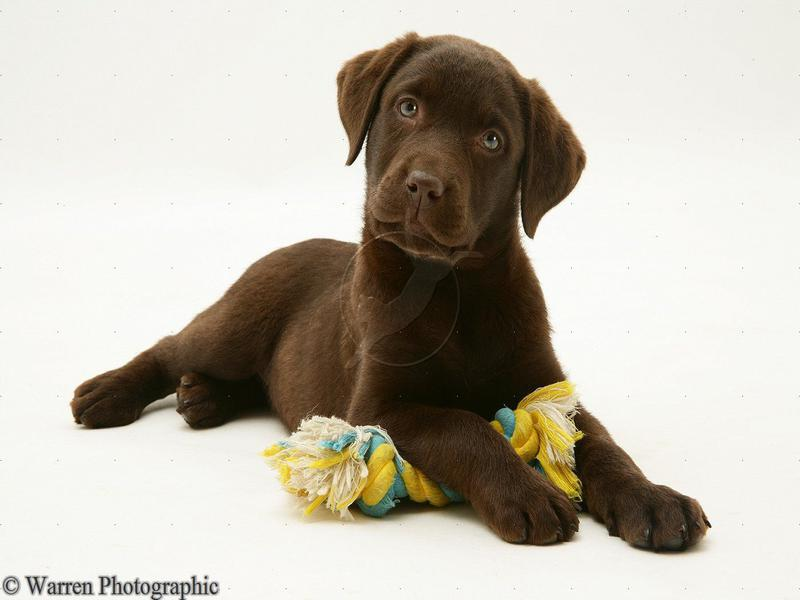dog_down: (70, 32, 719, 556)
